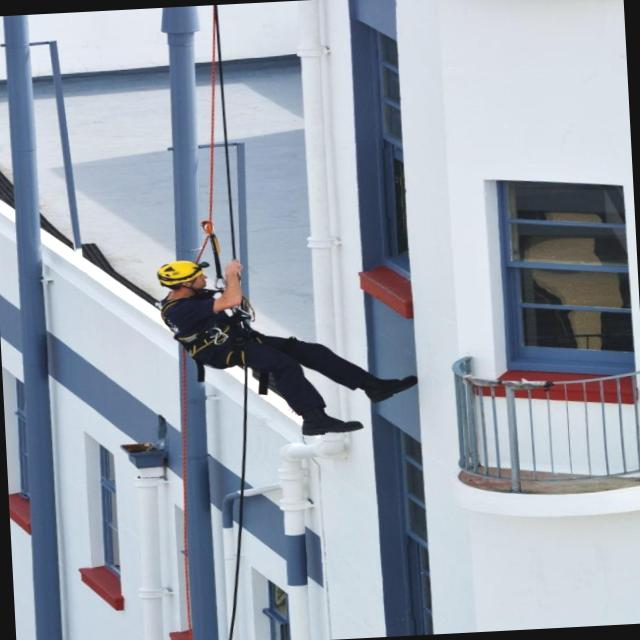helmet: (156, 253, 211, 296)
